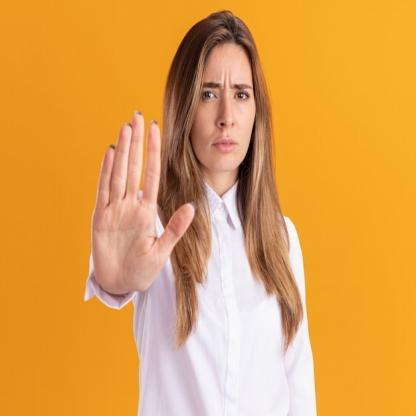stop: (83, 106, 198, 298)
